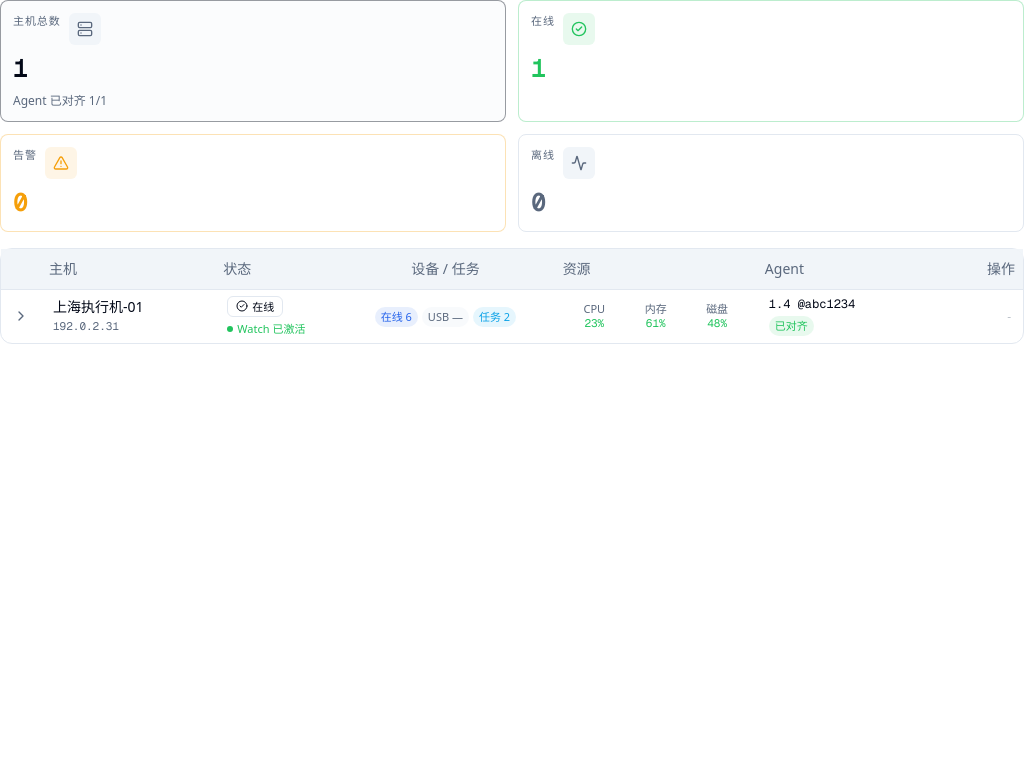
Scenario: 脚本在位（#2958 第五道闸） › 展开主机行才拉单机矩阵，缺口在前、未知不读成绿
The image size is (1024, 768).
Click the text "上海执行机-01" at (98, 307), box [53,297,144,316]
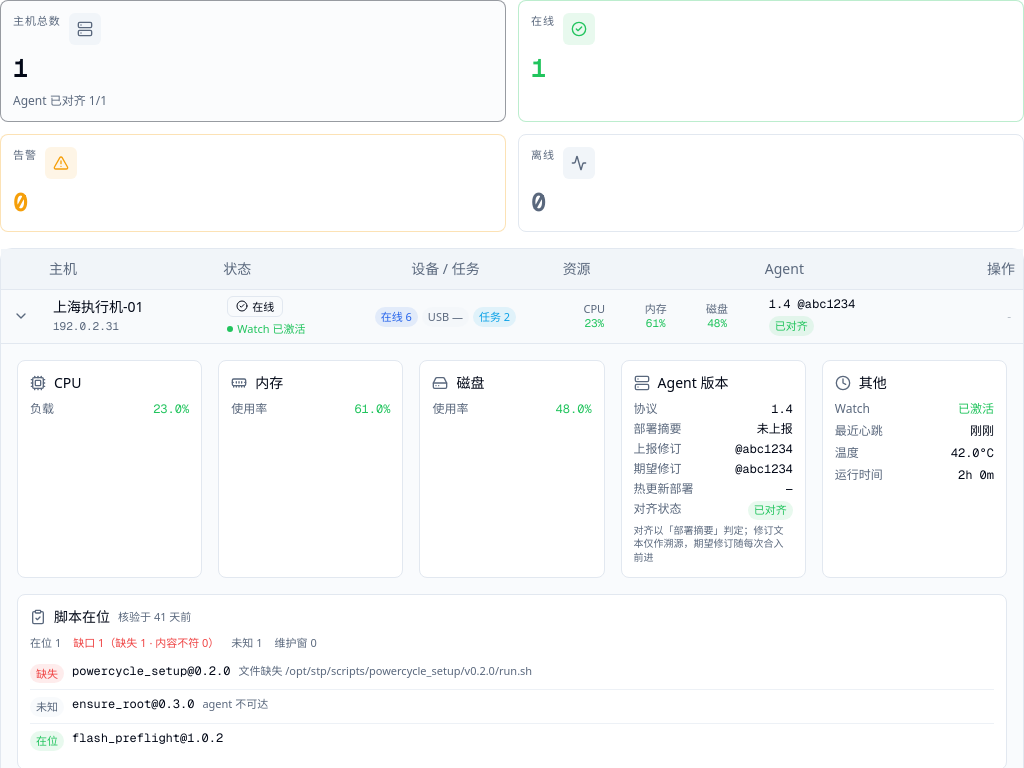
Expected: the text "powercycle_setup@0.2.0" is shown, [72,662,230,678]
Expected: the number of list items is 3, [30,656,994,690]; [30,690,994,724]; [30,730,223,751]
